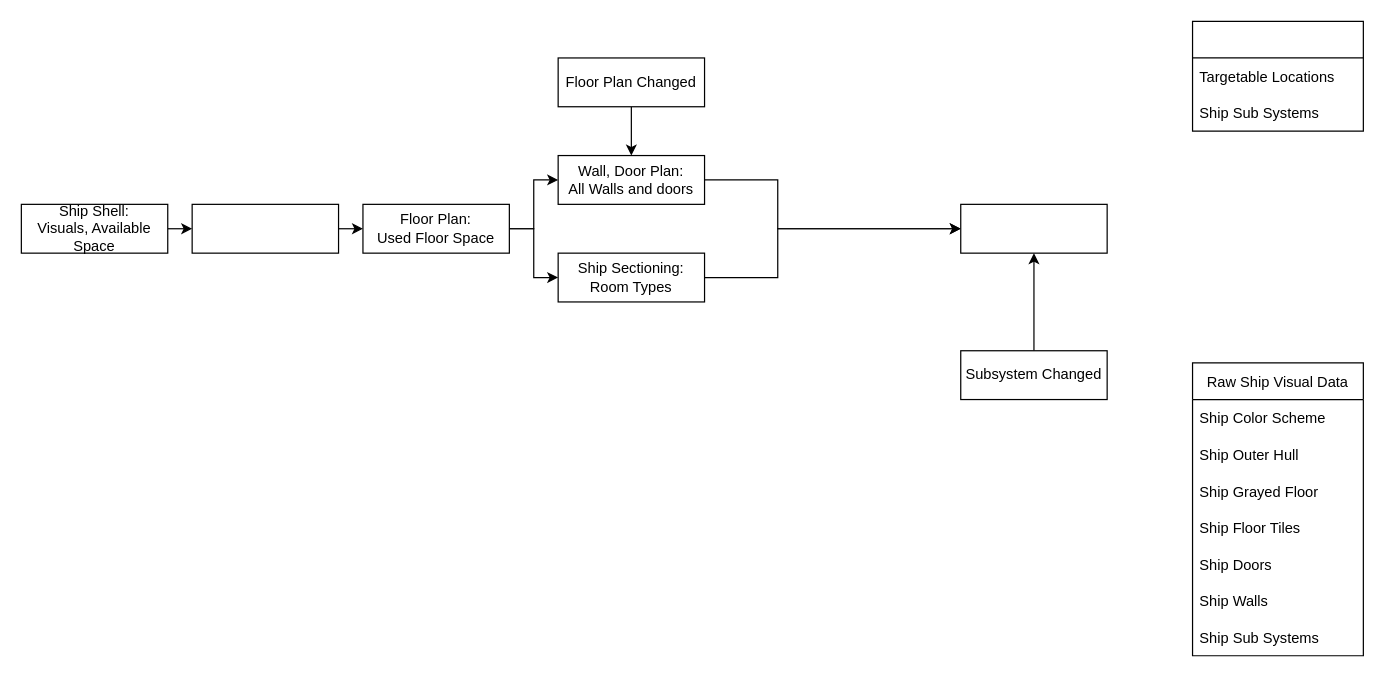
This 1385x677 diagram has some shape labels left out. The shapes that lost their labels are listed below. From the top down, each one's box as (x1, y1, x2, y2) in pixels, then its label:
(1191, 20, 1363, 131): Ship Interaction Data
(191, 203, 339, 253): Floor Space: Specific floor space
(960, 203, 1107, 253): Sub-Systems
